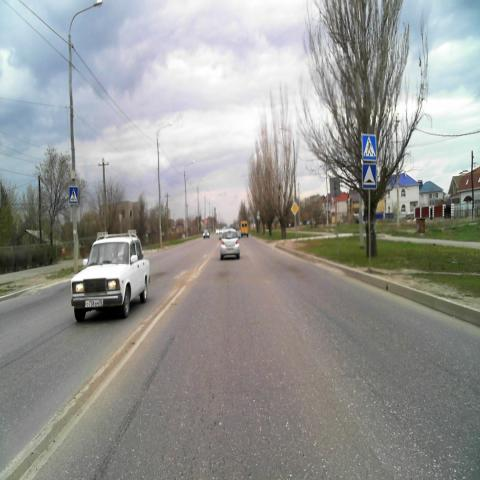2_1: (290, 202, 299, 216)
5_19_1: (361, 134, 377, 160), (69, 185, 78, 203)
5_20: (361, 163, 377, 191)
